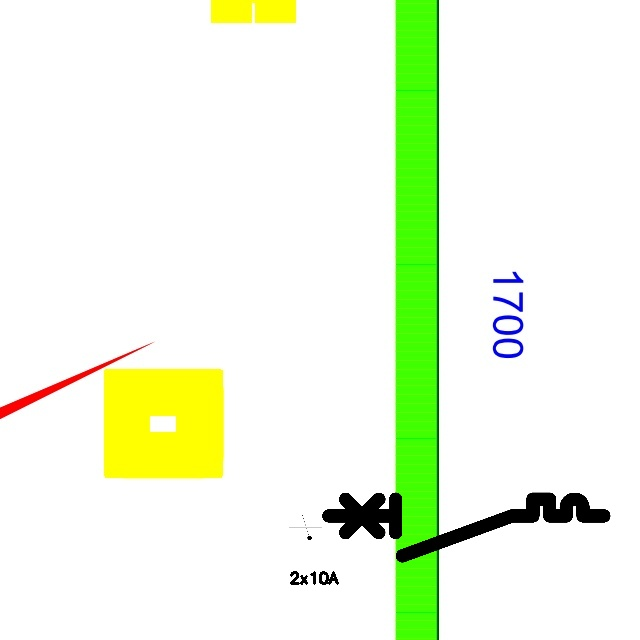interruptor_termomagnetico: (321, 492, 611, 563)
